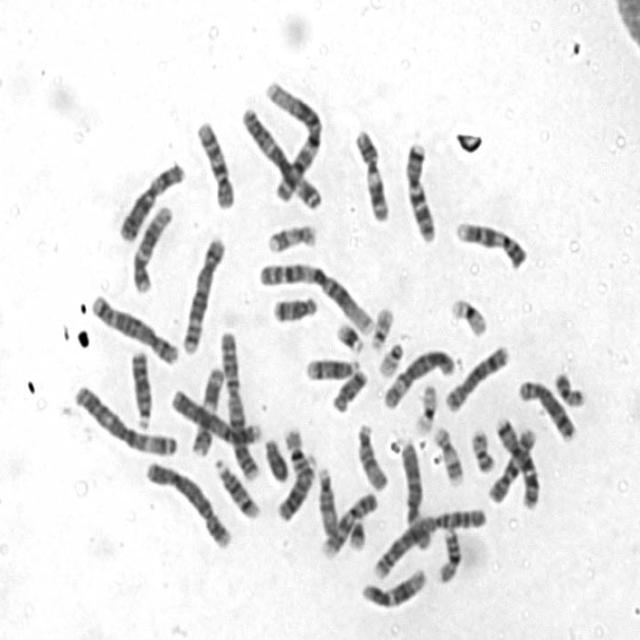A1: (257, 261, 375, 338), (261, 82, 327, 206)
A2: (371, 508, 487, 582), (220, 329, 261, 483)
A3: (240, 105, 324, 210), (71, 383, 178, 459)
B4: (142, 460, 232, 550), (169, 388, 262, 448)
B5: (89, 294, 180, 365), (180, 235, 228, 355)
C10: (192, 120, 236, 210), (487, 428, 536, 507)
C11: (353, 129, 394, 223), (190, 366, 225, 458)
C12: (128, 204, 174, 292), (359, 565, 426, 613)
C6: (382, 348, 457, 413), (401, 442, 432, 552)
C7: (494, 416, 540, 511), (403, 141, 440, 248)
C8: (443, 346, 511, 414), (515, 379, 576, 440)
C9: (453, 219, 529, 274), (321, 488, 378, 560)
D13: (275, 457, 319, 523), (128, 349, 154, 431)
D14: (213, 457, 262, 520), (304, 357, 362, 381)
D15: (357, 423, 390, 492), (316, 465, 339, 536)
E16: (432, 528, 463, 586), (283, 428, 312, 478)
E17: (429, 426, 464, 488), (265, 226, 319, 256)
E18: (330, 367, 370, 414), (269, 295, 319, 327)
F19: (451, 298, 490, 337), (413, 384, 438, 436)
F20: (470, 426, 496, 474), (554, 372, 586, 408)
G21: (335, 320, 365, 355), (346, 511, 368, 552)
G22: (377, 339, 406, 382), (369, 305, 392, 354)
X: (114, 162, 188, 246)
Y: (261, 436, 290, 484)
